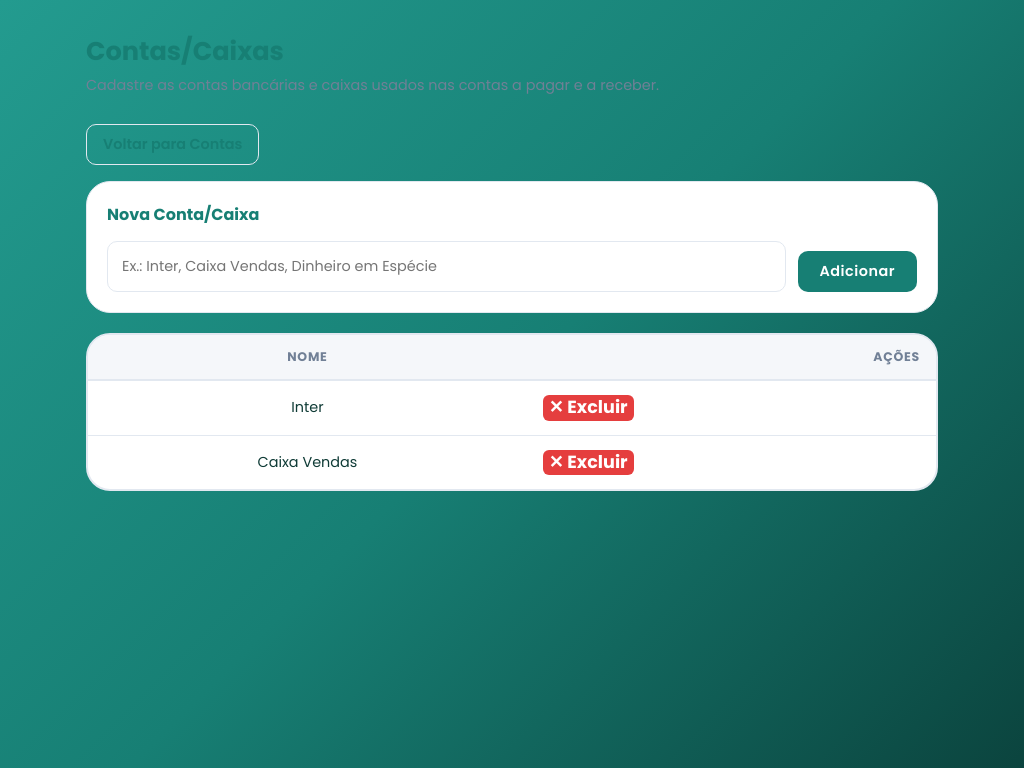
Test: ContasCaixa › adiciona uma nova conta/caixa pelo formulario
This screenshot has width=1024, height=768.
Check: the text "Inter" is shown, box [88,380,527,435]
Type "Nubank" into the field with placeholder "Ex.: Inter, Caixa Vendas, Dinheiro em Espécie" at (446, 266), box [107,241,786,292]
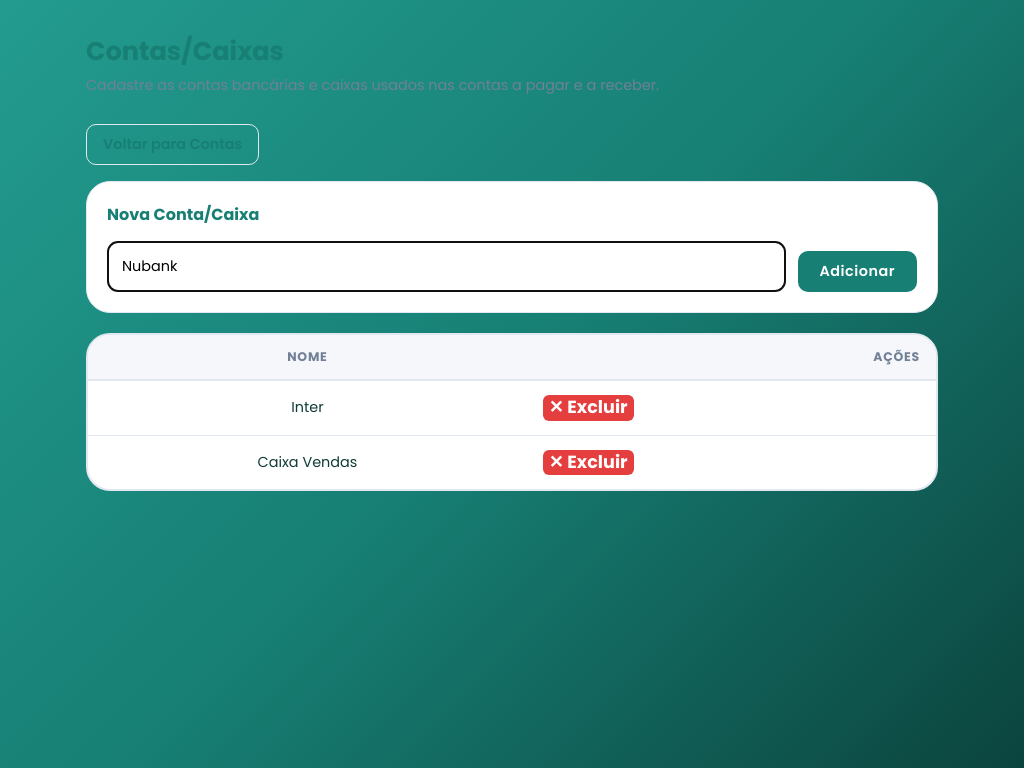
Click the button "Adicionar" at (857, 272), box [798,251,917,292]
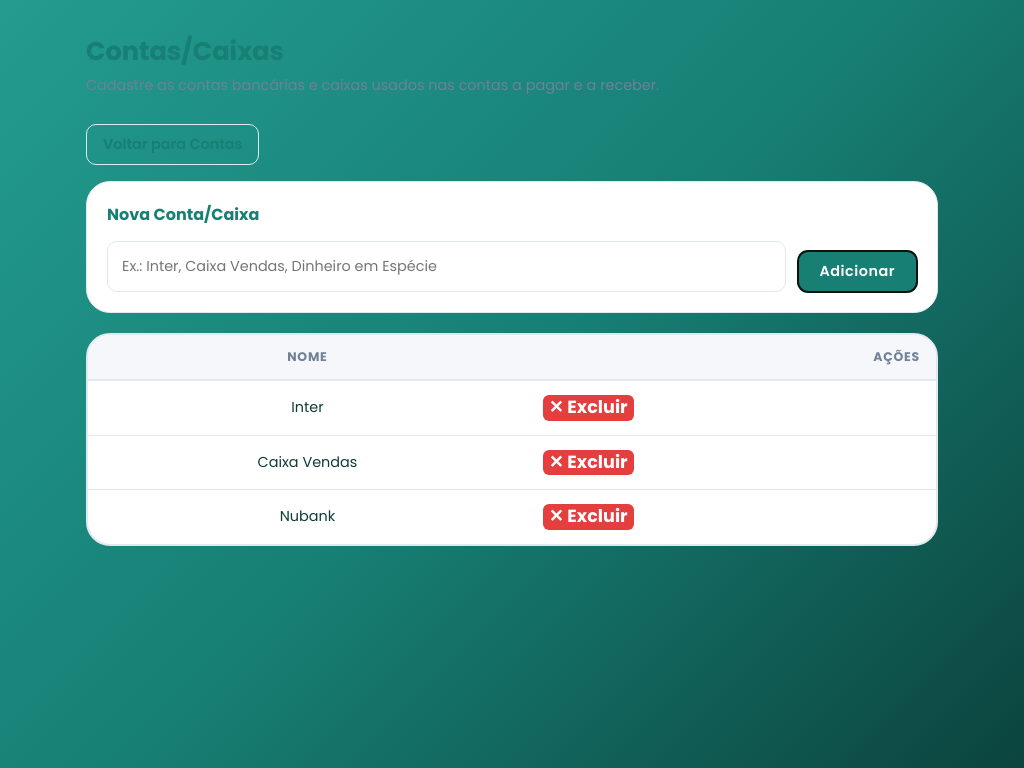
Check: the text "Nubank" is shown, box [88,490,527,544]
Check: the field with placeholder "Ex.: Inter, Caixa Vendas, Dinheiro em Espécie" is empty, box [107,241,786,292]
